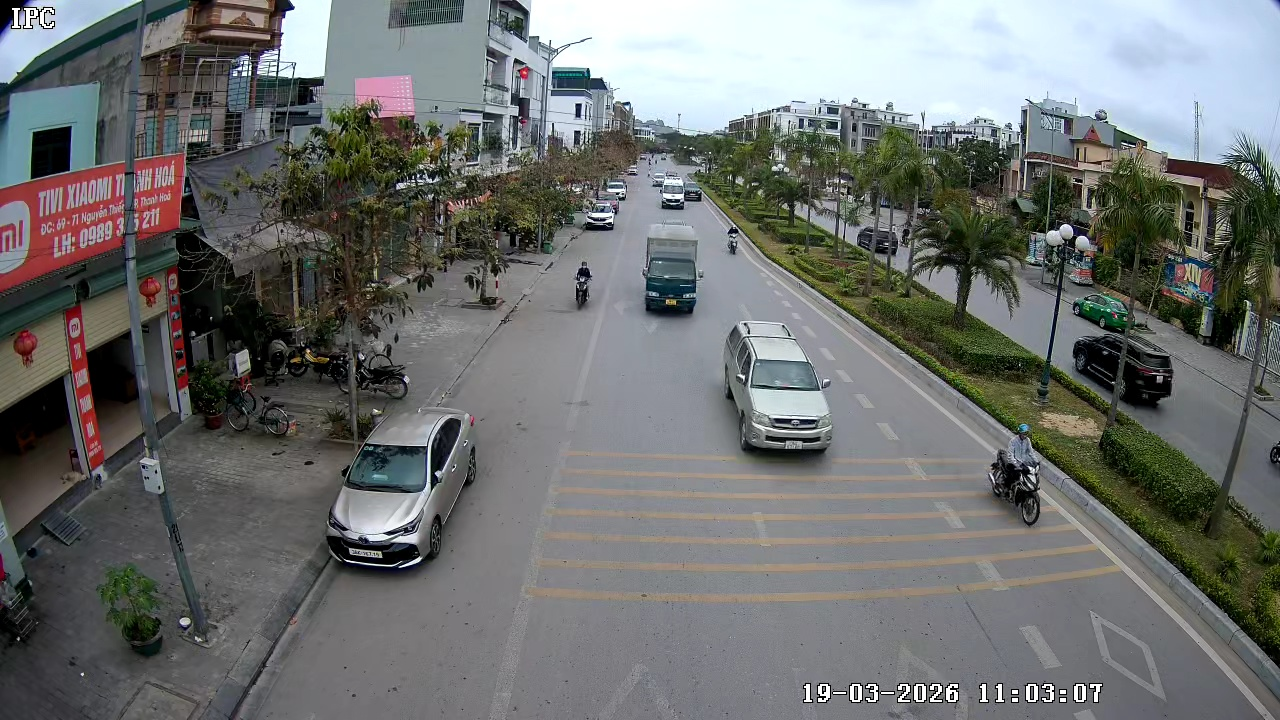car: (325, 405, 479, 570), (721, 319, 833, 453), (658, 177, 692, 209), (583, 201, 617, 231)
motorbike: (988, 423, 1046, 527), (354, 335, 411, 399), (572, 259, 594, 310), (725, 223, 740, 256)
truck: (1068, 289, 1175, 408), (641, 218, 704, 315)
